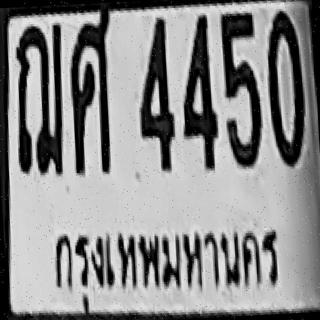A12: (10, 23, 68, 176), (11, 37, 68, 175)
A38: (66, 14, 118, 174), (67, 15, 117, 157), (67, 32, 116, 174), (67, 15, 116, 128)
N04: (134, 15, 176, 174), (177, 13, 219, 170), (134, 15, 176, 159), (177, 13, 218, 141), (177, 13, 217, 128)
N05: (220, 12, 259, 100)
P04: (42, 208, 284, 318)
